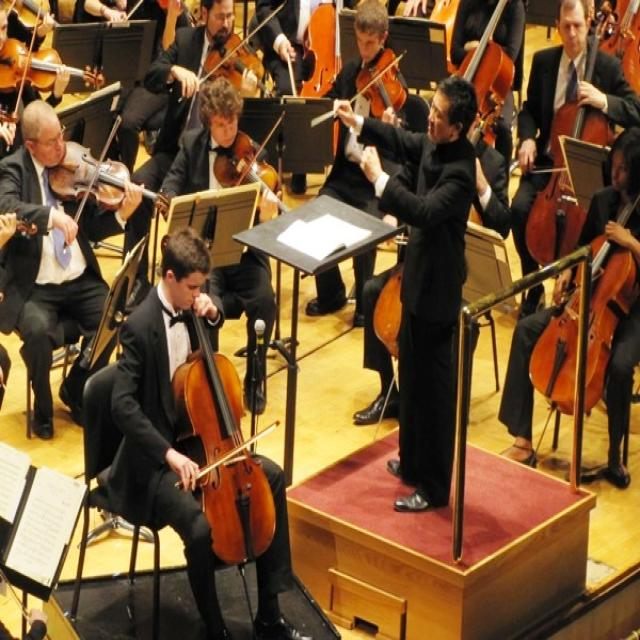cello: (170, 291, 279, 570), (527, 178, 640, 418), (523, 4, 626, 266), (372, 255, 436, 443), (450, 0, 518, 168), (299, 0, 348, 164), (596, 0, 639, 95)
violin: (47, 135, 176, 214), (205, 130, 301, 221), (0, 39, 114, 98), (356, 42, 411, 140), (203, 33, 279, 103), (0, 0, 51, 31)
